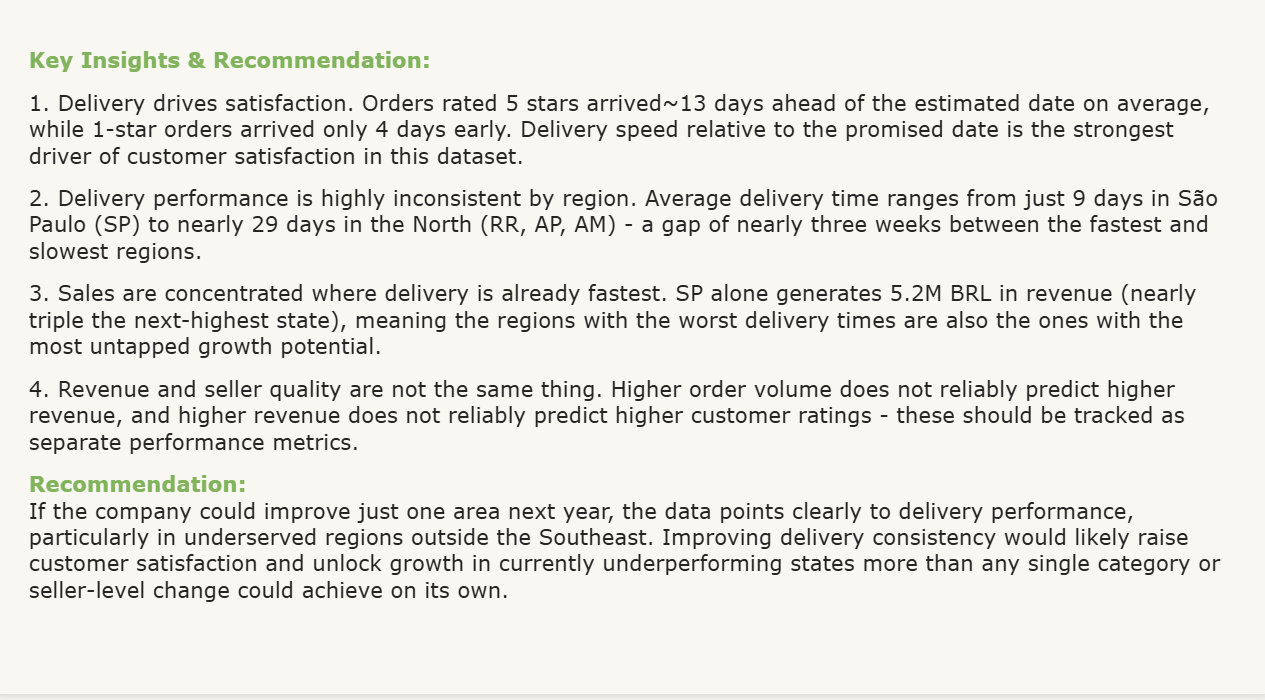

What the dashboard file says about the page in this screenshot:
{"tool":"powerbi","page":{"name":"Key Insights & Recommendation","canvas":[1280,720],"ordinal":2},"visuals":[{"type":"textbox","box":[34.3,68.6,1208.9,632.6],"z":0}]}

Visuals, with their boxes in screenshot pixels (x1, y1, x2, y2), scaled from the page's 1280x720 canvas onto the 1265x700 screenshot:
textbox: {"left": 34, "top": 67, "right": 1229, "bottom": 682}
